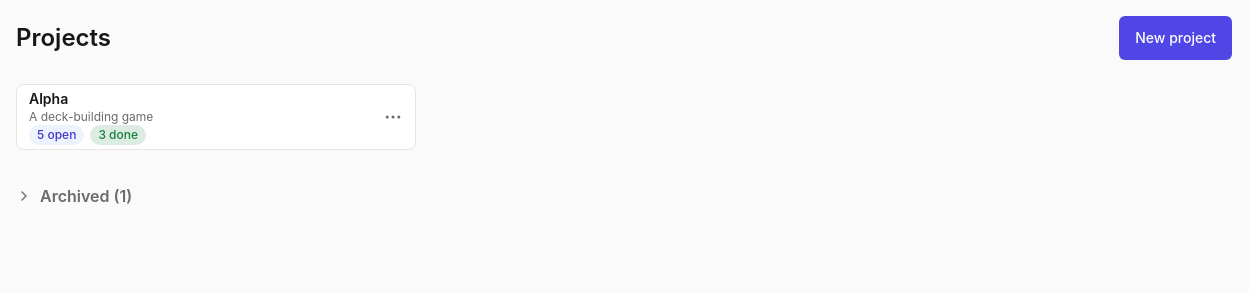
Projects › dims archived cards
This screenshot has width=1249, height=293.
Step 1. Click the button "Archived (1)" → (74, 196), box [16,174,132,218]
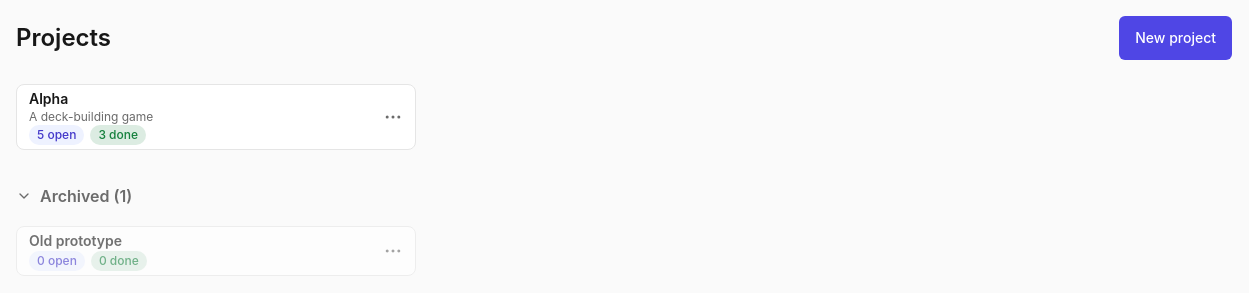
Expected: the text "0 open" is shown, [29,251,85,271]
Expected: the text "0 done" is shown, [91,251,147,271]
